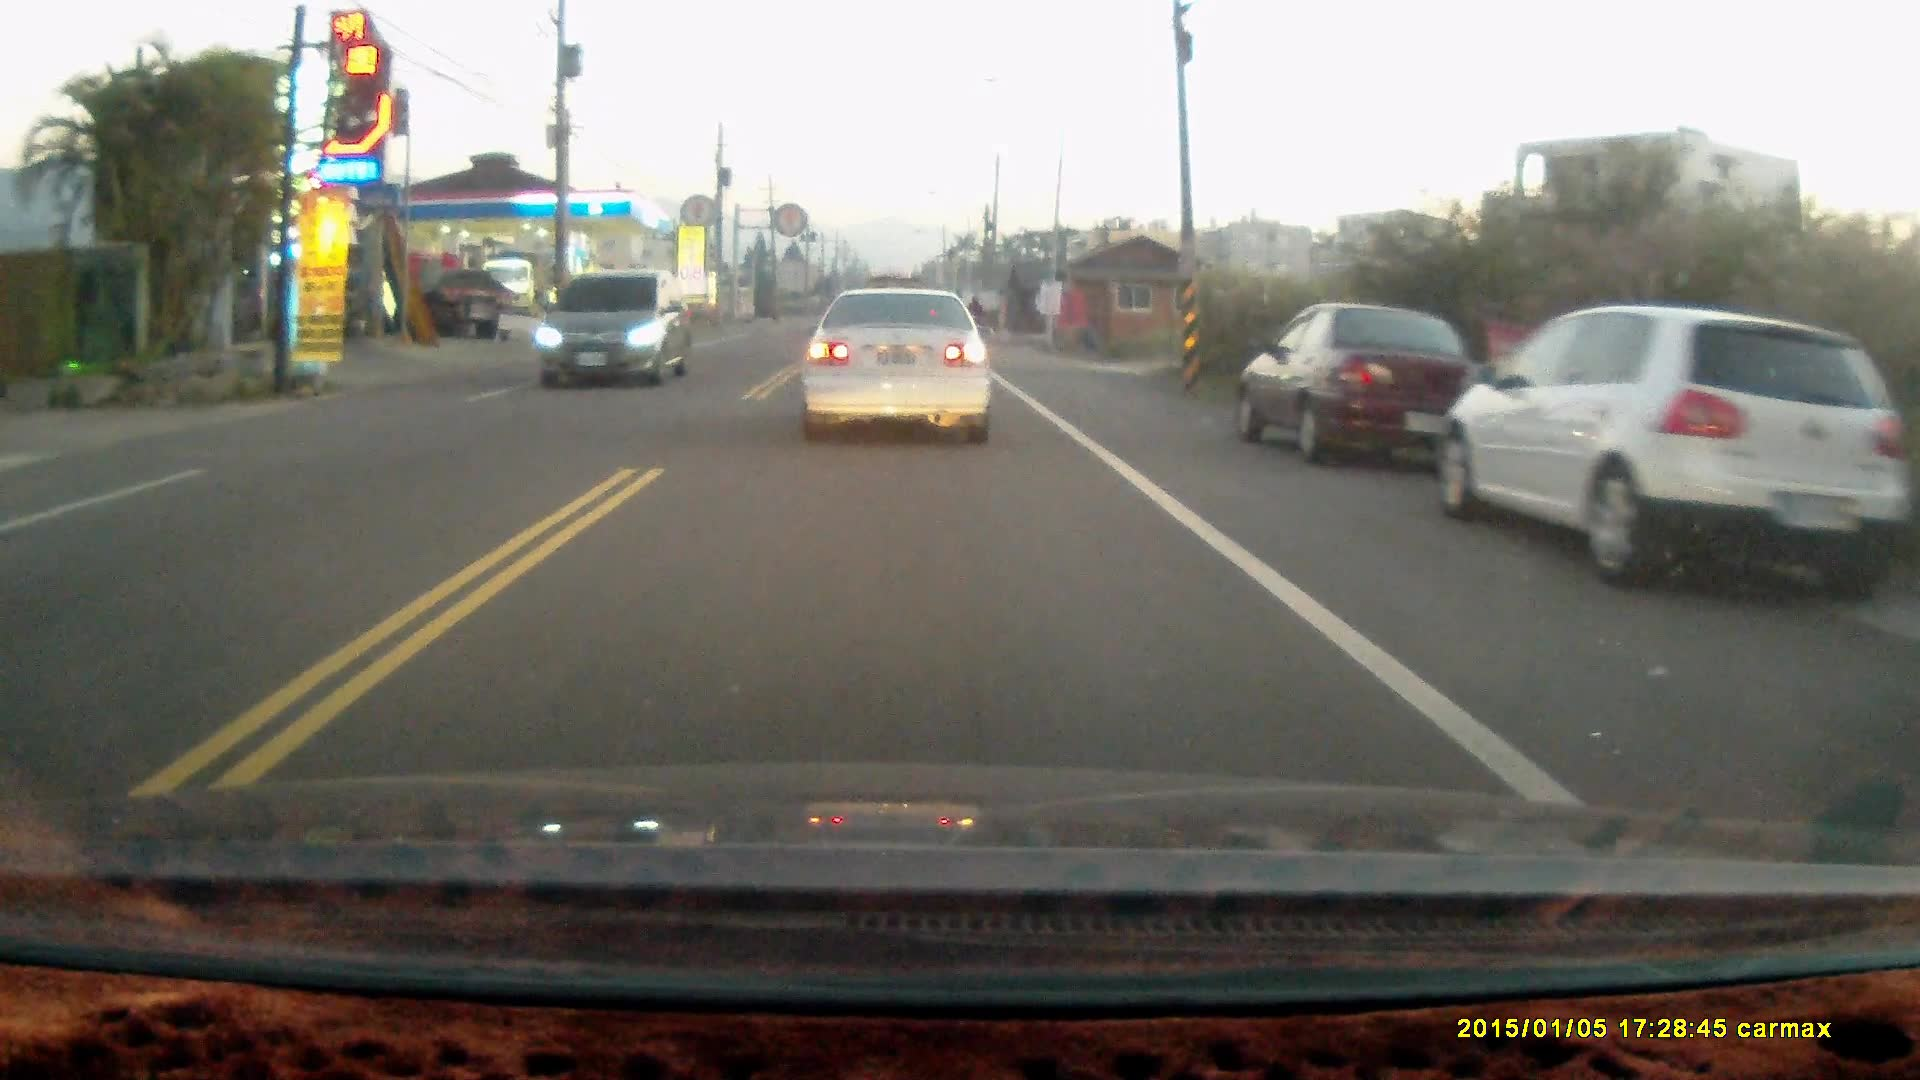vehicle: (1441, 306, 1894, 583), (1236, 306, 1497, 462), (796, 280, 996, 446), (537, 273, 694, 396)
